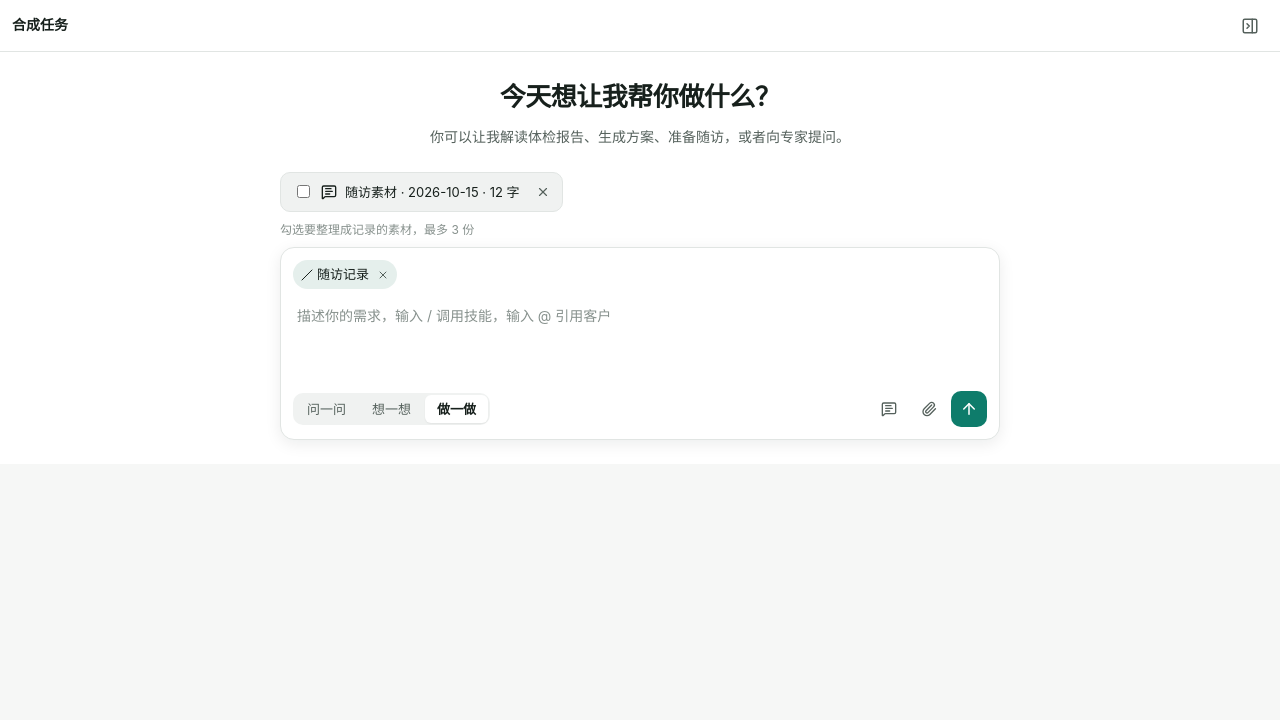
Test: /随访记录在对话区 › 没有勾选素材（409 no_materials）：提示先上传并勾选
The width and height of the screenshot is (1280, 720).
Expected: the checkbox named "整理这份（2026-10-15）" is shown, [297, 186, 310, 198]
Click the button named "发送" at (969, 409), box [951, 391, 987, 427]
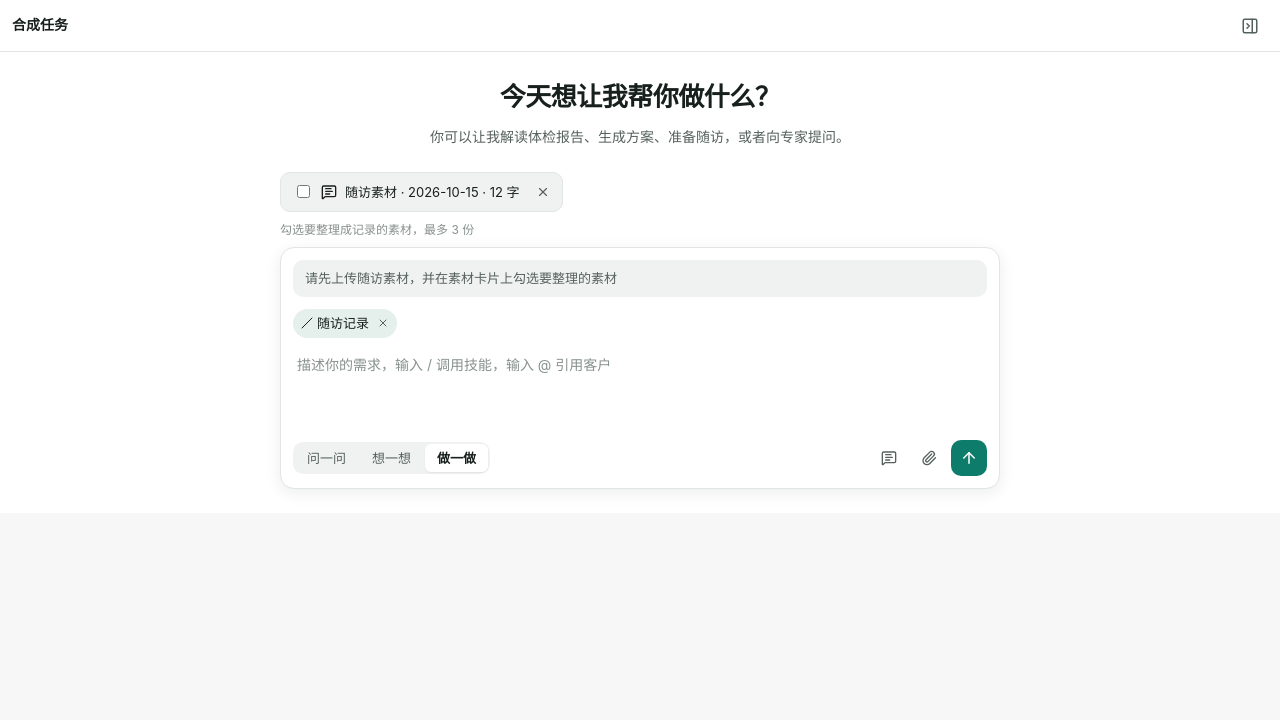
Expected: the message shows "请先上传随访素材", [305, 270, 617, 286]
